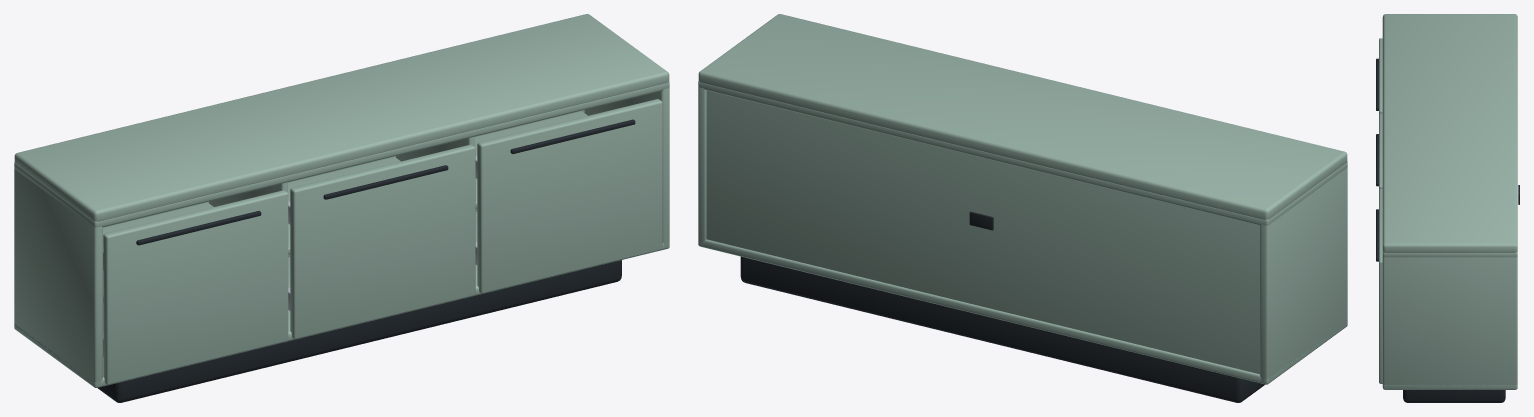
Rendered from tv-stand.glb.
3 views of the same model, side by side, from view 1: azimuth 30°, elevation 25°; view 2: azimuth 150°, elevation 25°; view 3: azimuth 270°, elevation 25° (orthographic). The views are drawn at different scales.
Visible parts, largest first — view 1: catalog_surface_RealismUV, catalog_surface_UVMap; view 2: catalog_surface_RealismUV, catalog_surface_UVMap; view 3: catalog_surface_RealismUV, catalog_surface_UVMap.
Boxes of the visible parts, x1,y1,x2,y2 form: catalog_surface_RealismUV: [14, 14, 669, 387]; catalog_surface_UVMap: [97, 119, 635, 402]; catalog_surface_RealismUV: [698, 14, 1347, 384]; catalog_surface_UVMap: [740, 211, 1264, 402]; catalog_surface_RealismUV: [1379, 14, 1517, 389]; catalog_surface_UVMap: [1376, 58, 1519, 402].
Bounding box in the file's own units: 1.6 × 0.56 × 0.42.
